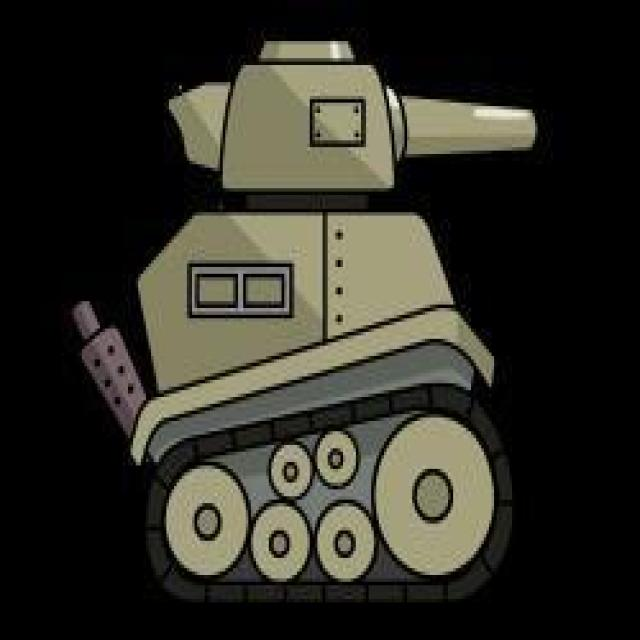Tanks: (102, 26, 538, 604)
